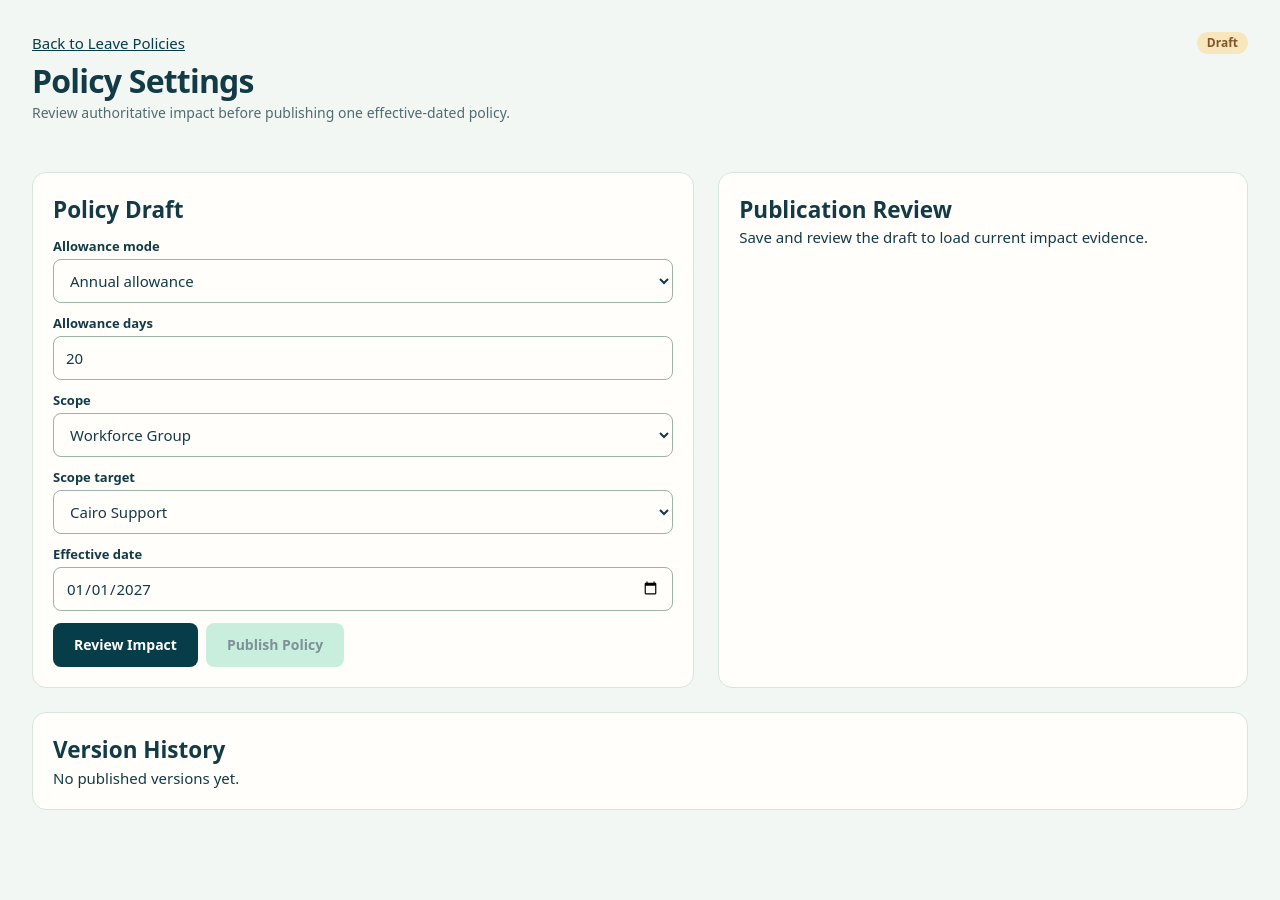
Scenario: PolicySettingsPage › [P0] displays server field violations, preserves input and focuses the relevant field
Replace the text in the number field labelled "Allowance days" with "0" at (363,358), box x1=53 y1=336 x2=673 y2=380
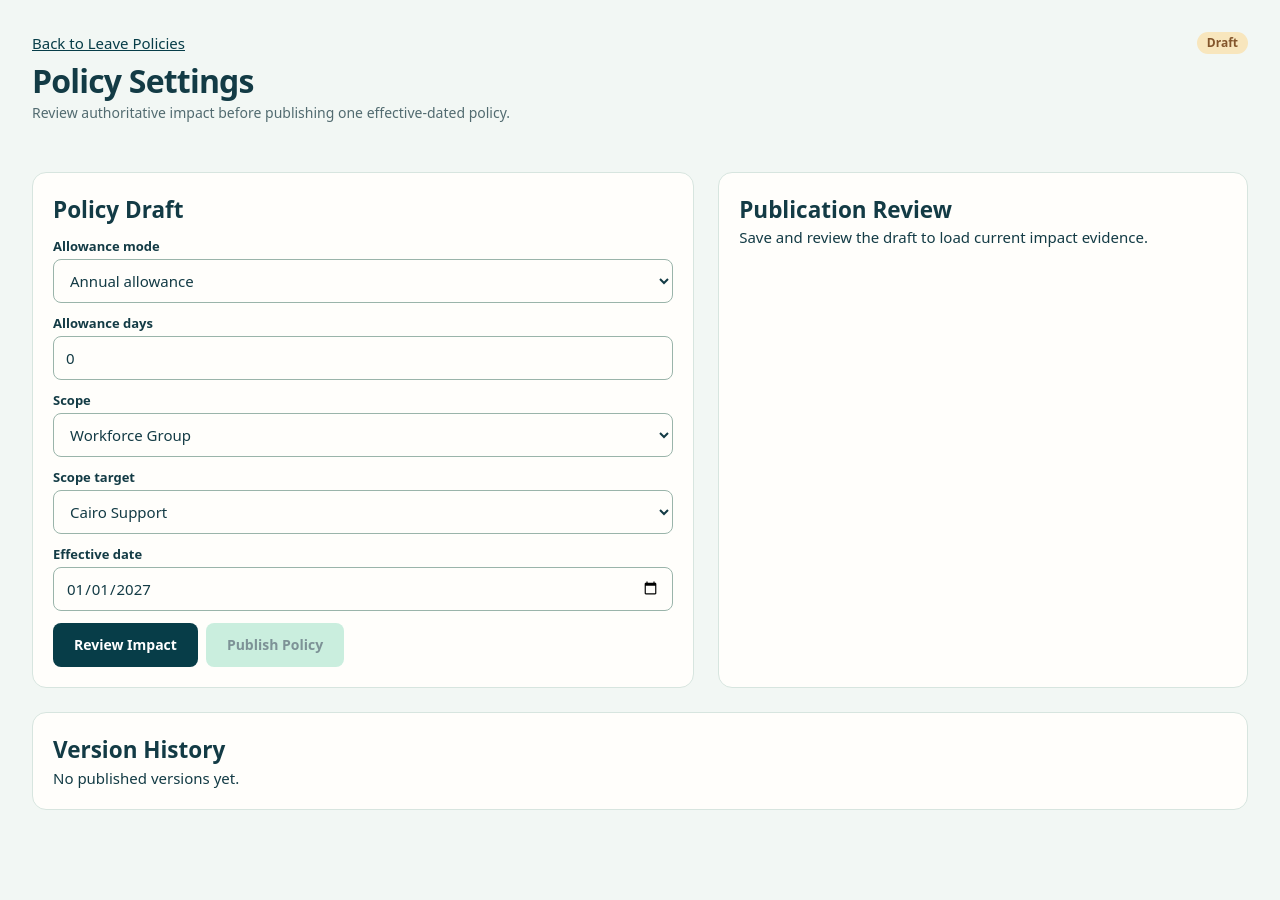
Click the button "Review Impact" at (125,645), box x1=53 y1=623 x2=198 y2=667
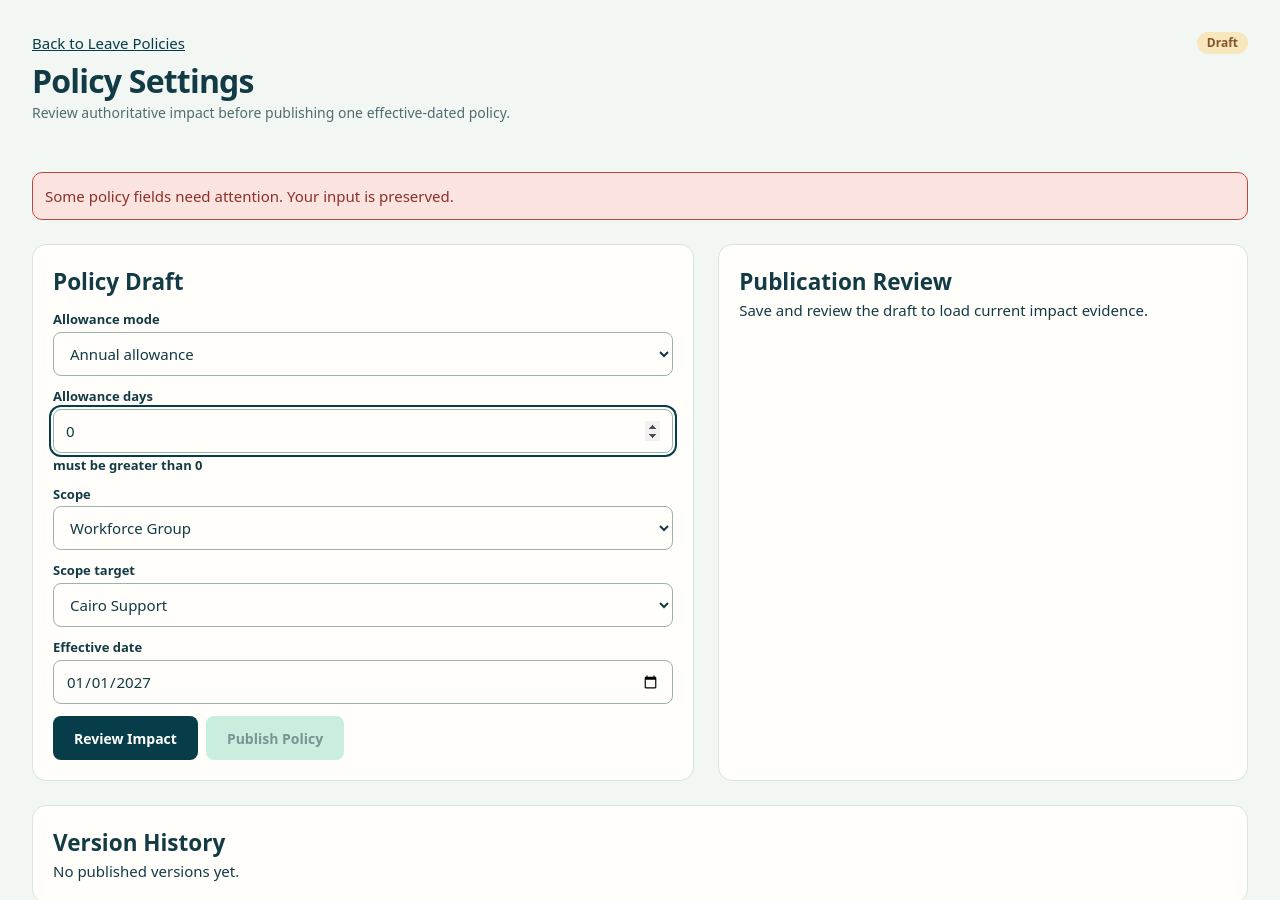
Expected: the text "must be greater than 0" is shown, x1=53 y1=456 x2=202 y2=474
